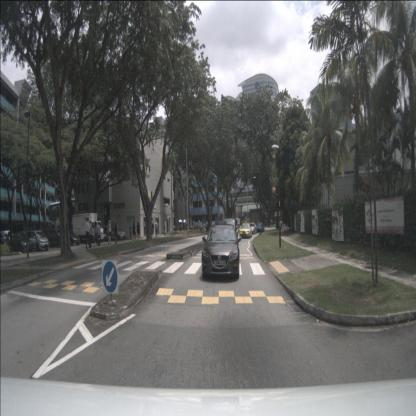human-pedestrian-adult: (89, 219, 94, 252), (86, 217, 91, 249), (93, 219, 98, 247), (97, 222, 102, 248), (132, 221, 137, 242), (108, 219, 112, 245), (136, 221, 141, 241), (154, 219, 159, 238), (114, 221, 118, 244), (128, 223, 132, 240), (179, 221, 182, 234), (183, 222, 185, 234)
vehicle-car: (201, 223, 242, 278), (27, 230, 50, 250), (223, 217, 240, 244), (10, 232, 31, 252), (48, 230, 64, 248), (106, 228, 126, 240), (239, 223, 253, 238), (0, 230, 12, 246), (0, 232, 10, 248), (256, 222, 265, 232), (249, 223, 257, 233)
vehicle-truck: (72, 214, 104, 243)
